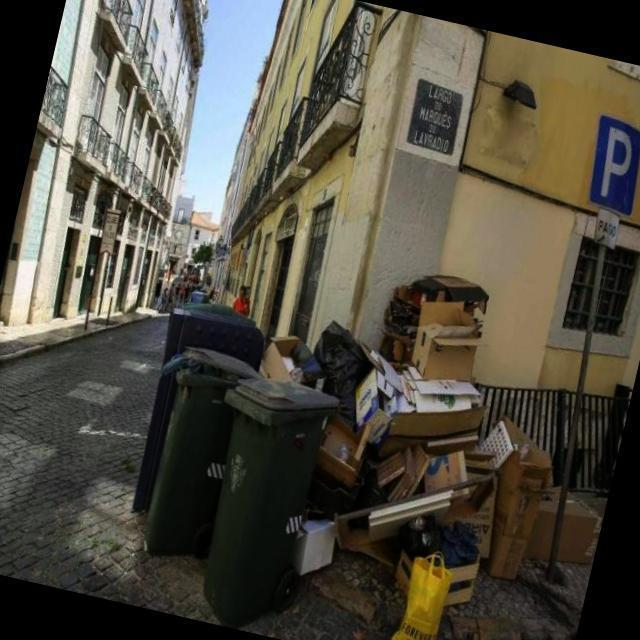garbage: (246, 244, 637, 640)
